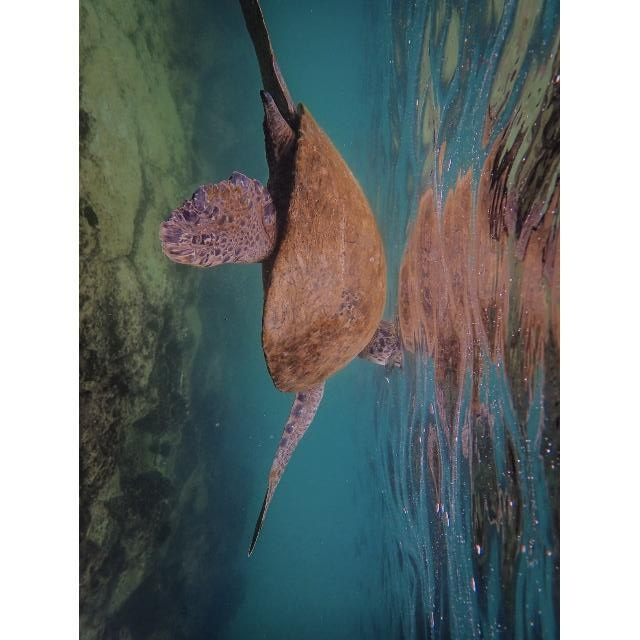turtle: (159, 3, 401, 558)
